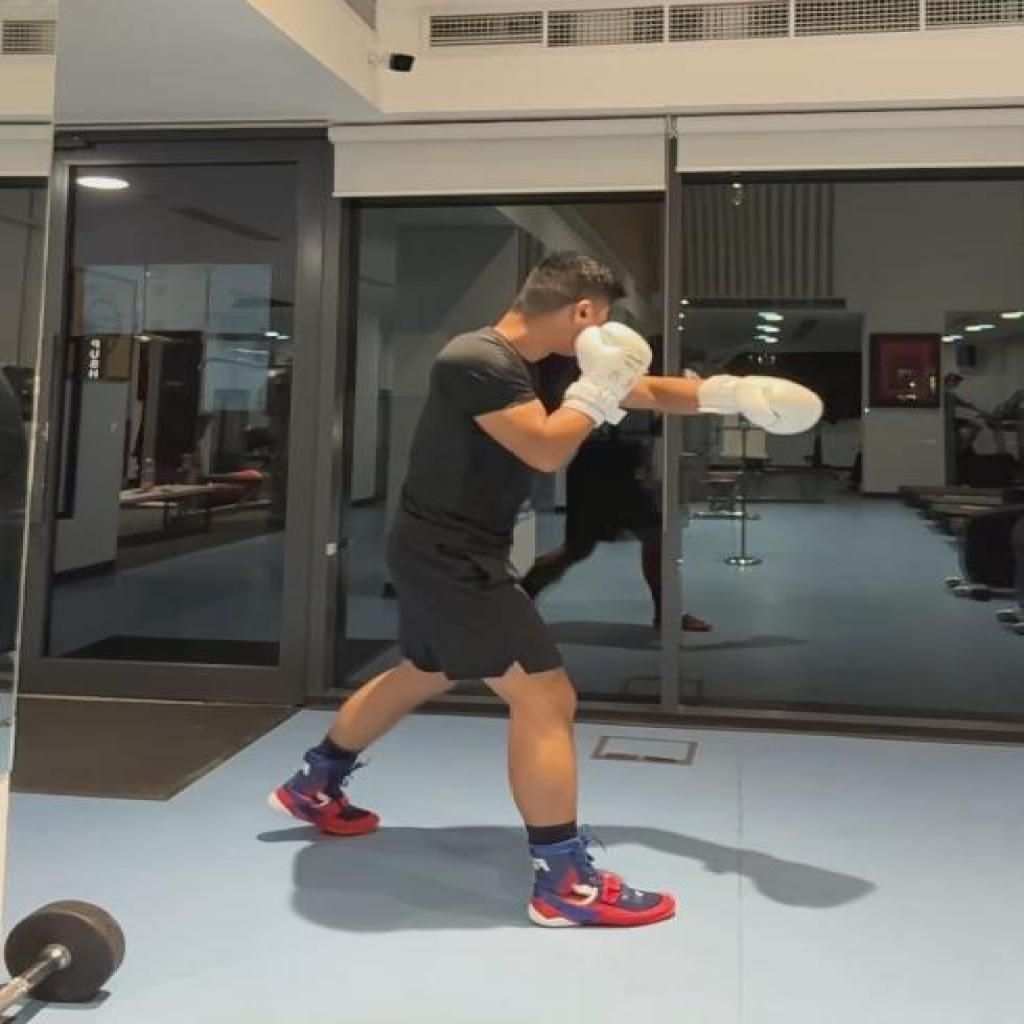cross: (266, 253, 826, 928)
